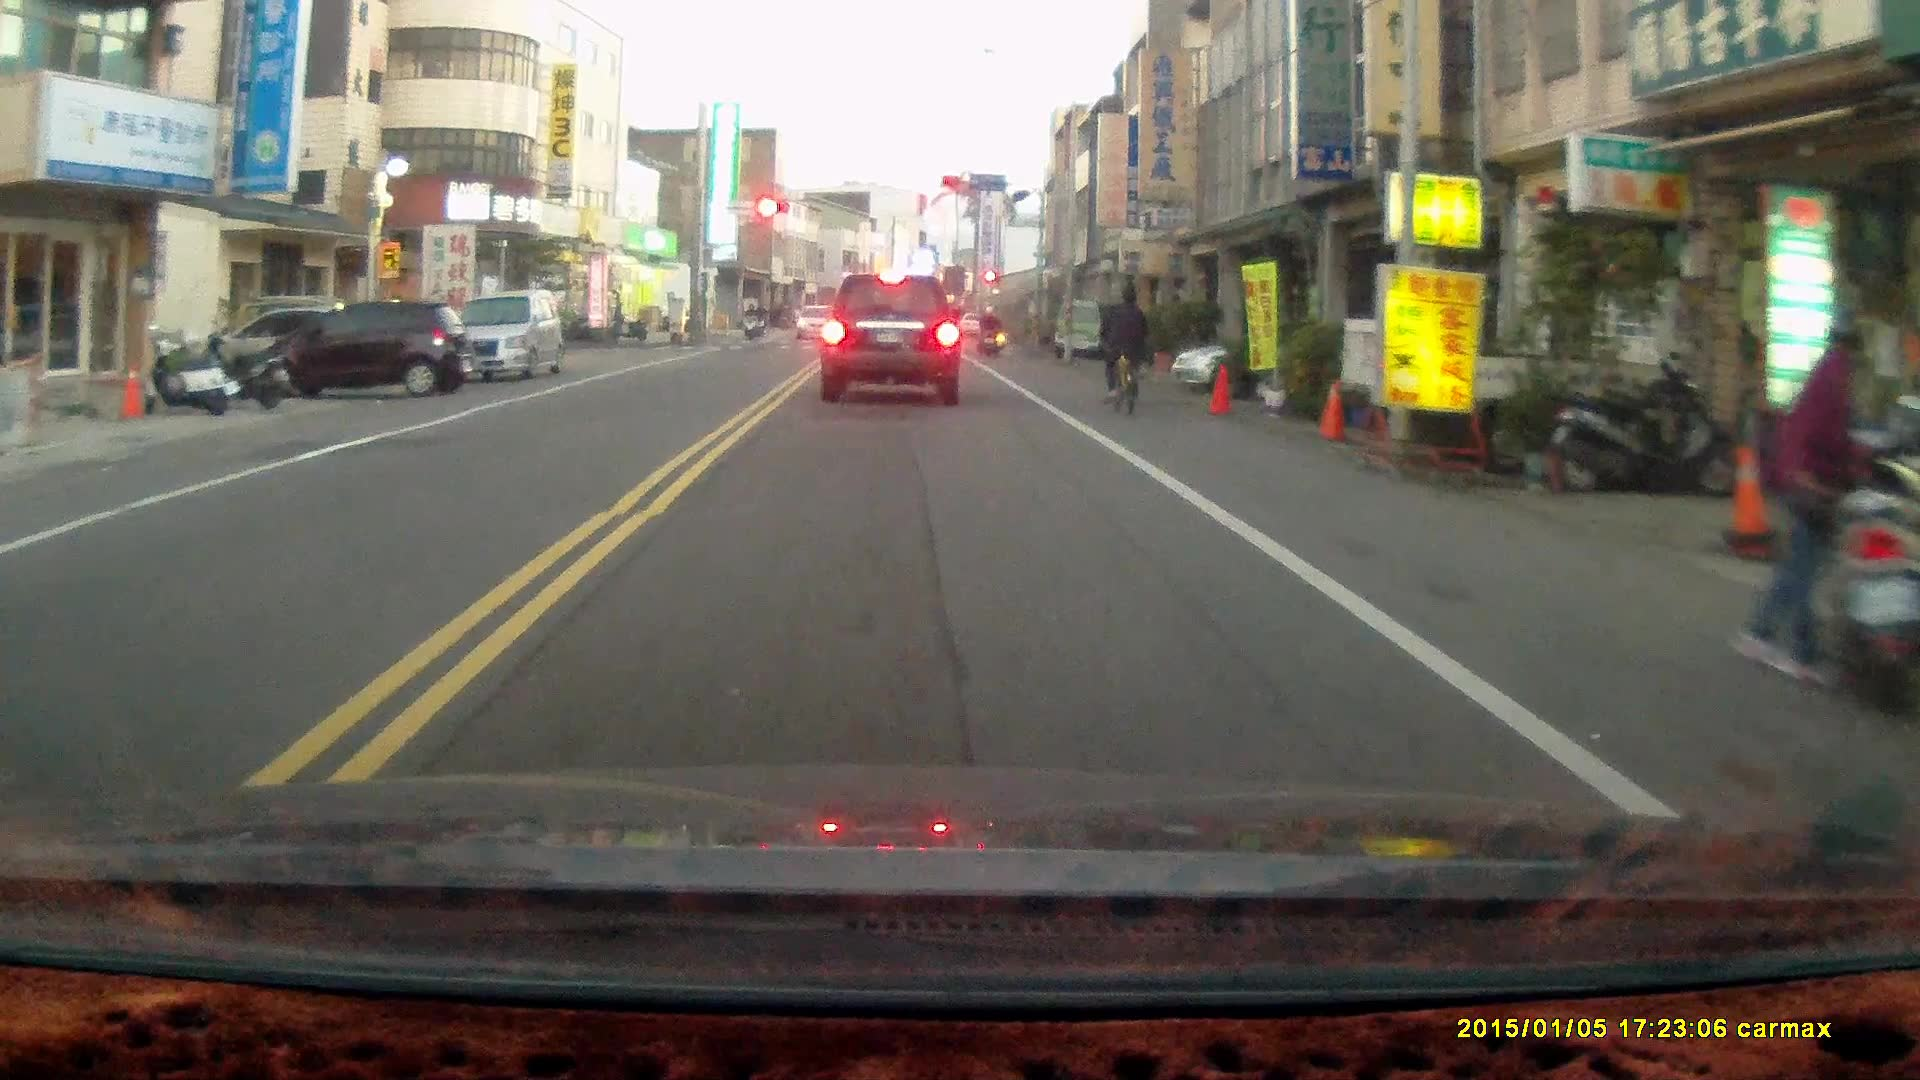pedestrian: (1731, 302, 1868, 692)
rider: (1098, 279, 1151, 415), (974, 300, 999, 355), (740, 300, 762, 341)
vehicle: (257, 296, 471, 400), (818, 271, 966, 408), (1169, 320, 1409, 395), (434, 284, 567, 386)
